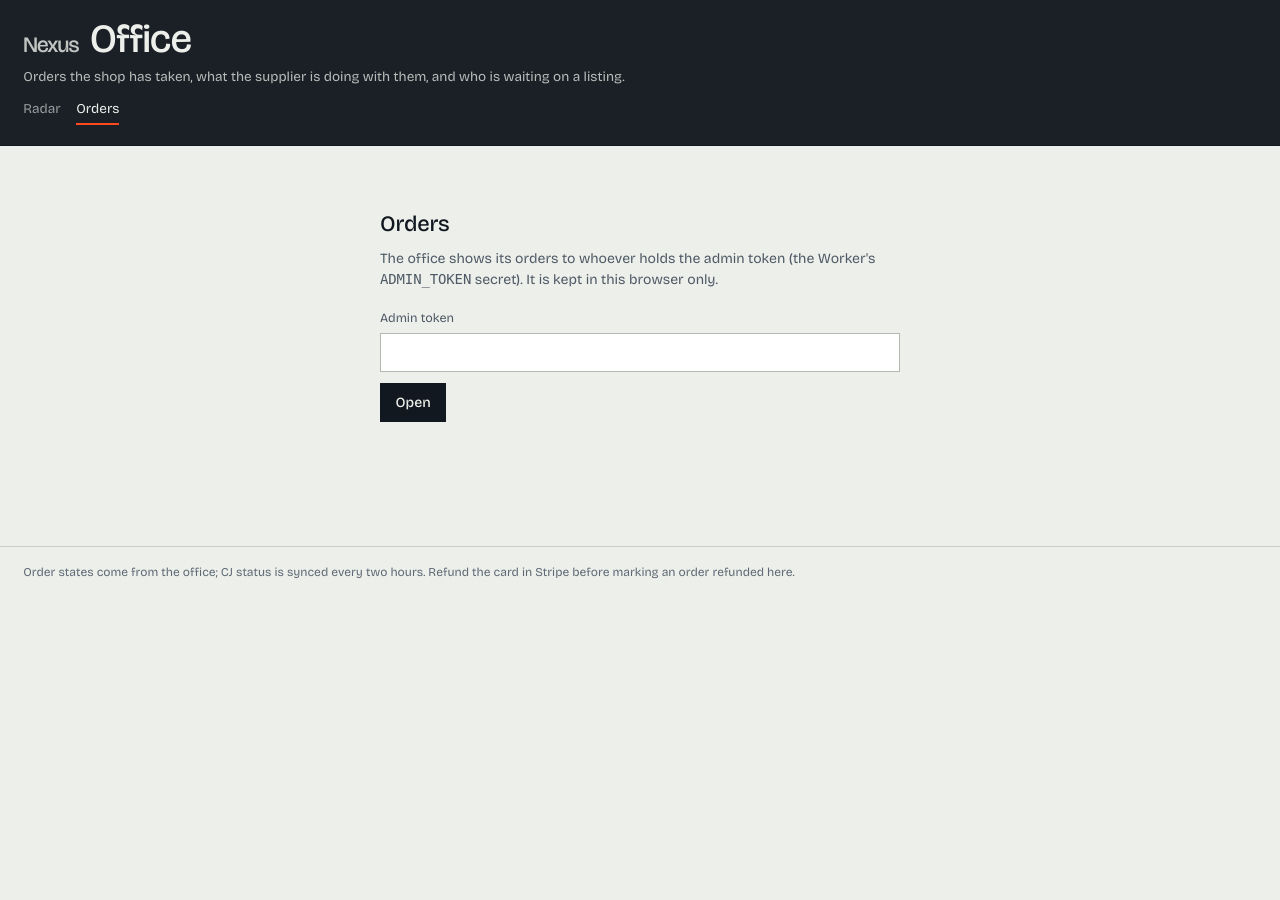
Test: Radar orders tab › asks for the token, then lists orders newest first with needs-attention first
The width and height of the screenshot is (1280, 900).
In the password field labelled "Admin token": (640, 352) 380,333 -> 900,372, type "secret"
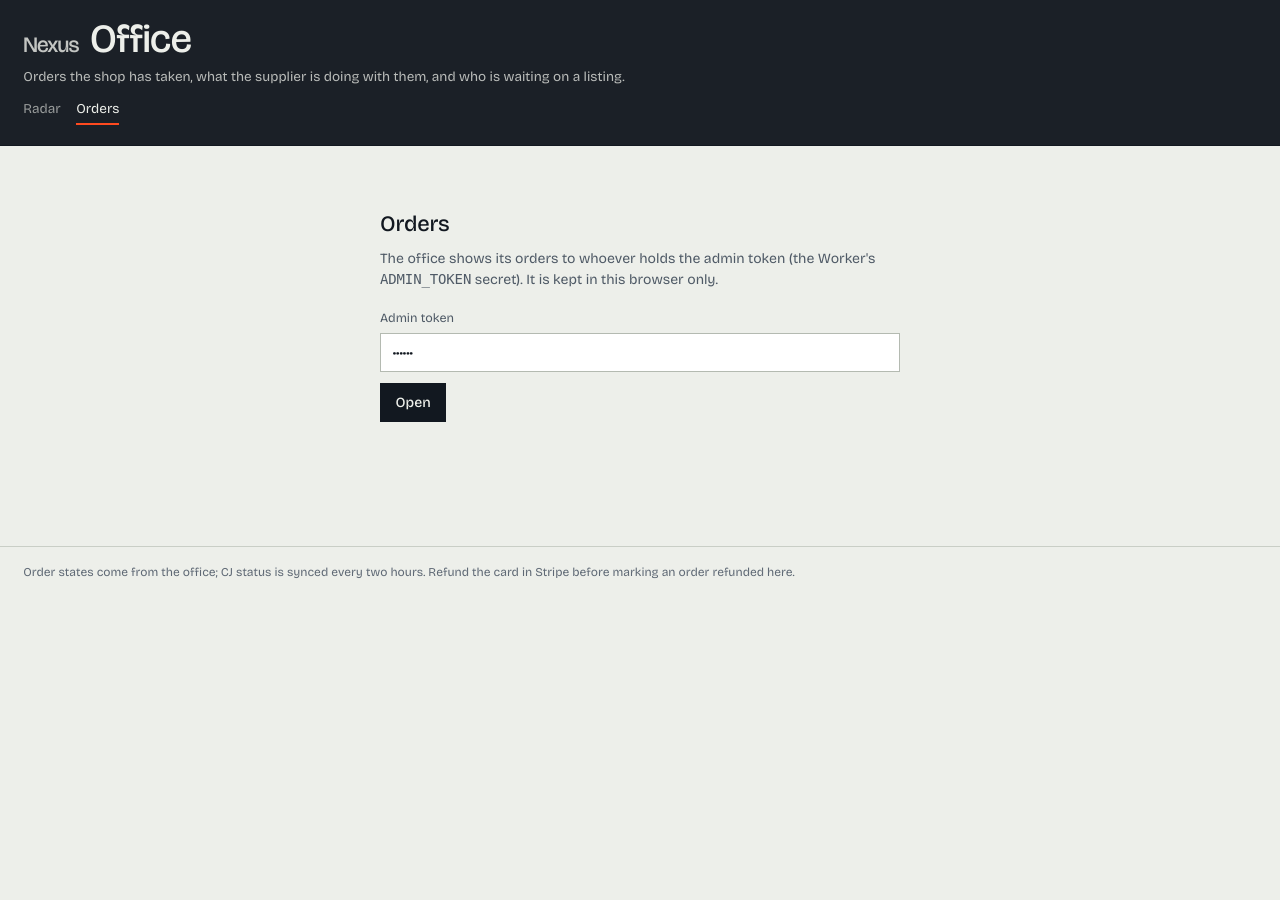
Click the button "Open": (413, 403) 380,383 -> 446,422
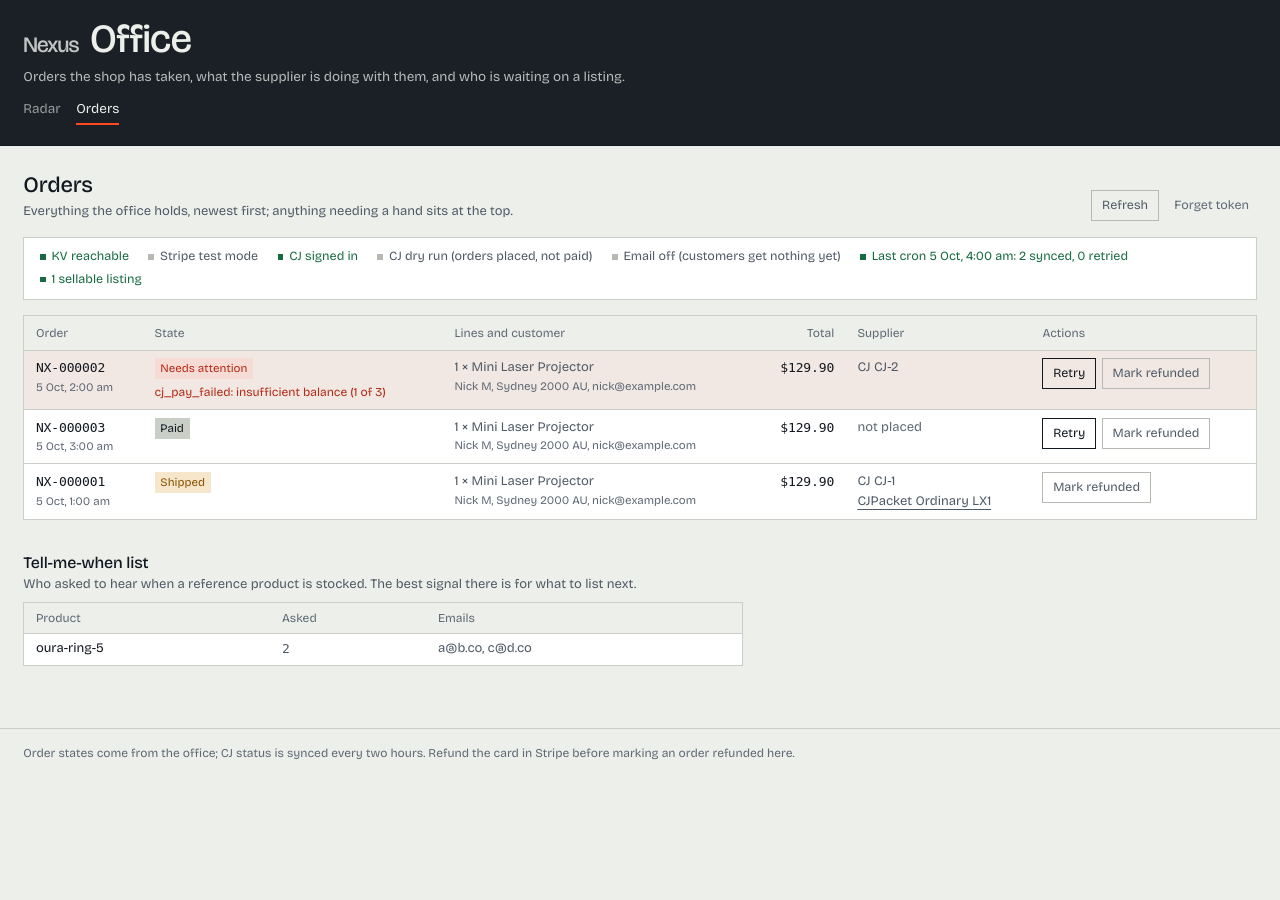
Now the text "cj_pay_failed: insufficient balance (1 of 3)" is shown, box 154,383 -> 405,401
Now the text "oura-ring-5" is shown, box 24,633 -> 270,665
Now the text "a@b.co, c@d.co" is shown, box 426,633 -> 743,665
